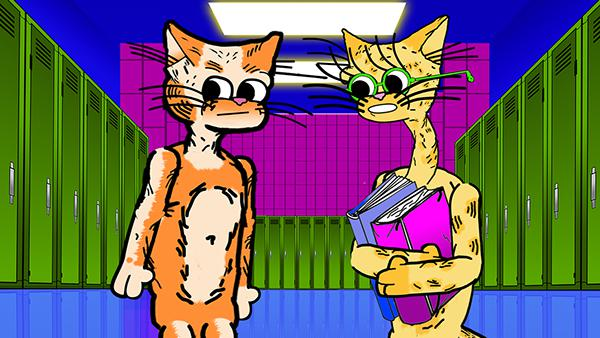cat: (76, 24, 293, 338), (330, 26, 503, 337)
